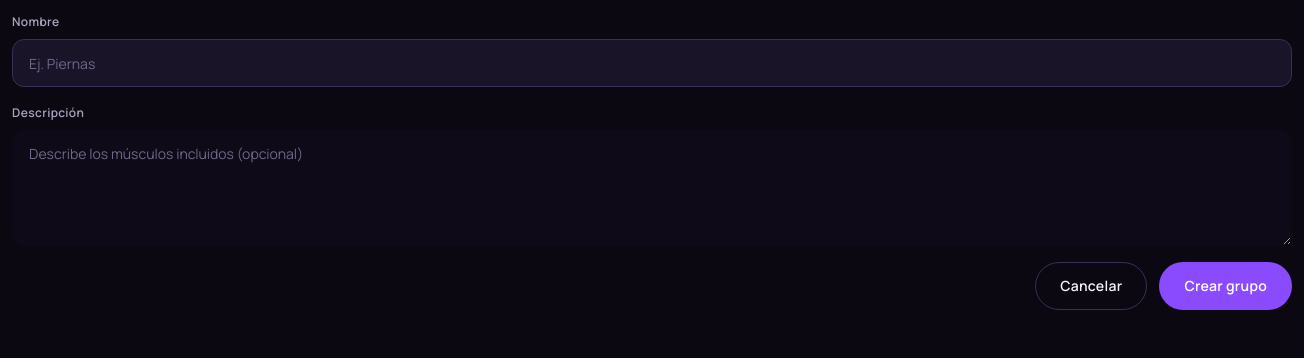
MuscleGroupForm › requires the group name and does not submit invalid data
Click the button "Crear grupo" at (1226, 286), box [1159,262,1292,310]
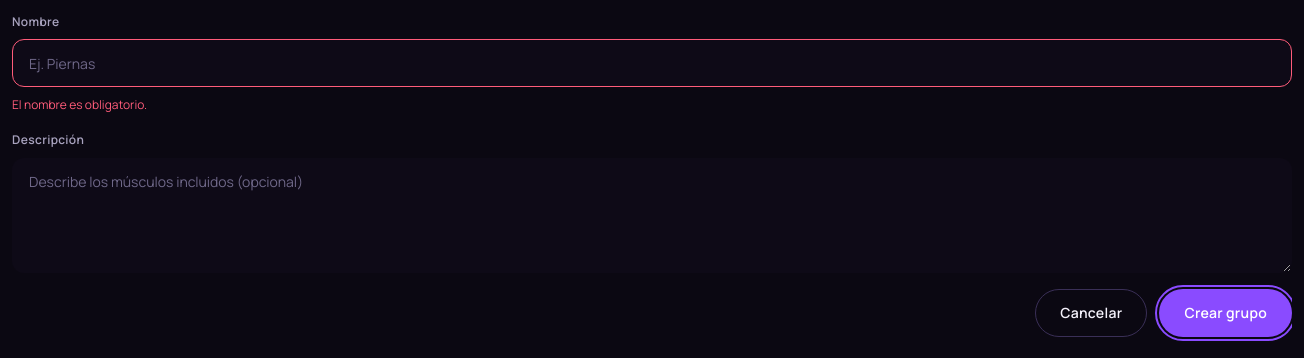
Check: the text "El nombre es obligatorio." is shown, box [12,96,147,113]
